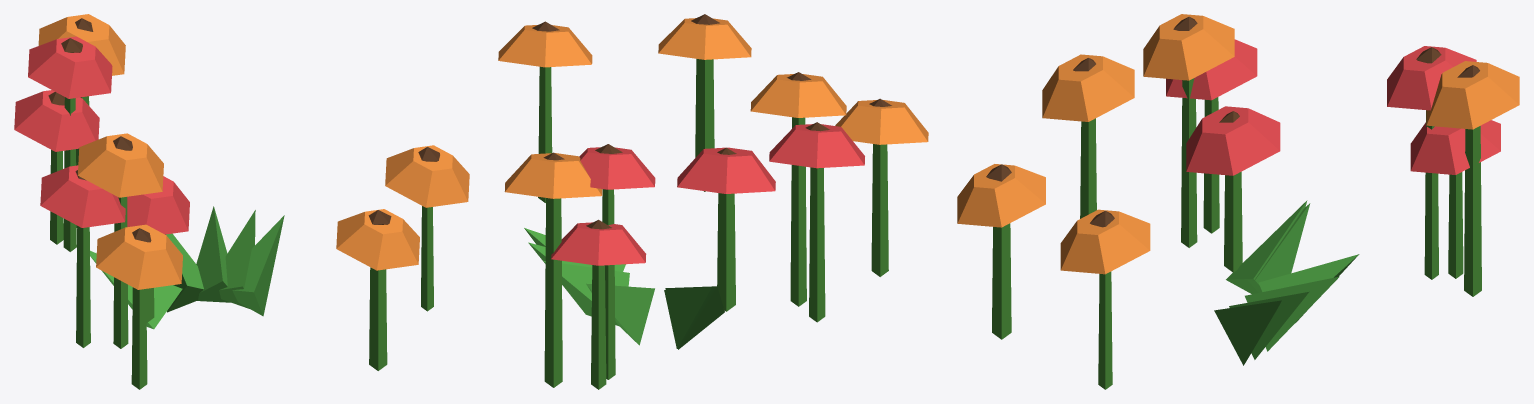
File: Flowers_Poppy.fbx
The picture shows the model from 3 angles, left to right: view 1: azimuth 30°, elevation 25°; view 2: azimuth 150°, elevation 25°; view 3: azimuth 270°, elevation 25°; orthographic projection. The views are drawn at different scales.
Visible parts, largest first — view 1: Flowers_Poppy; view 2: Flowers_Poppy; view 3: Flowers_Poppy.
Boxes of the visible parts, <box> form: Flowers_Poppy: <box>14,14,469,389</box>; Flowers_Poppy: <box>498,14,928,389</box>; Flowers_Poppy: <box>957,14,1519,389</box>.
Bounding box in the file's own units: 1.01 × 0.6105 × 1.19.
